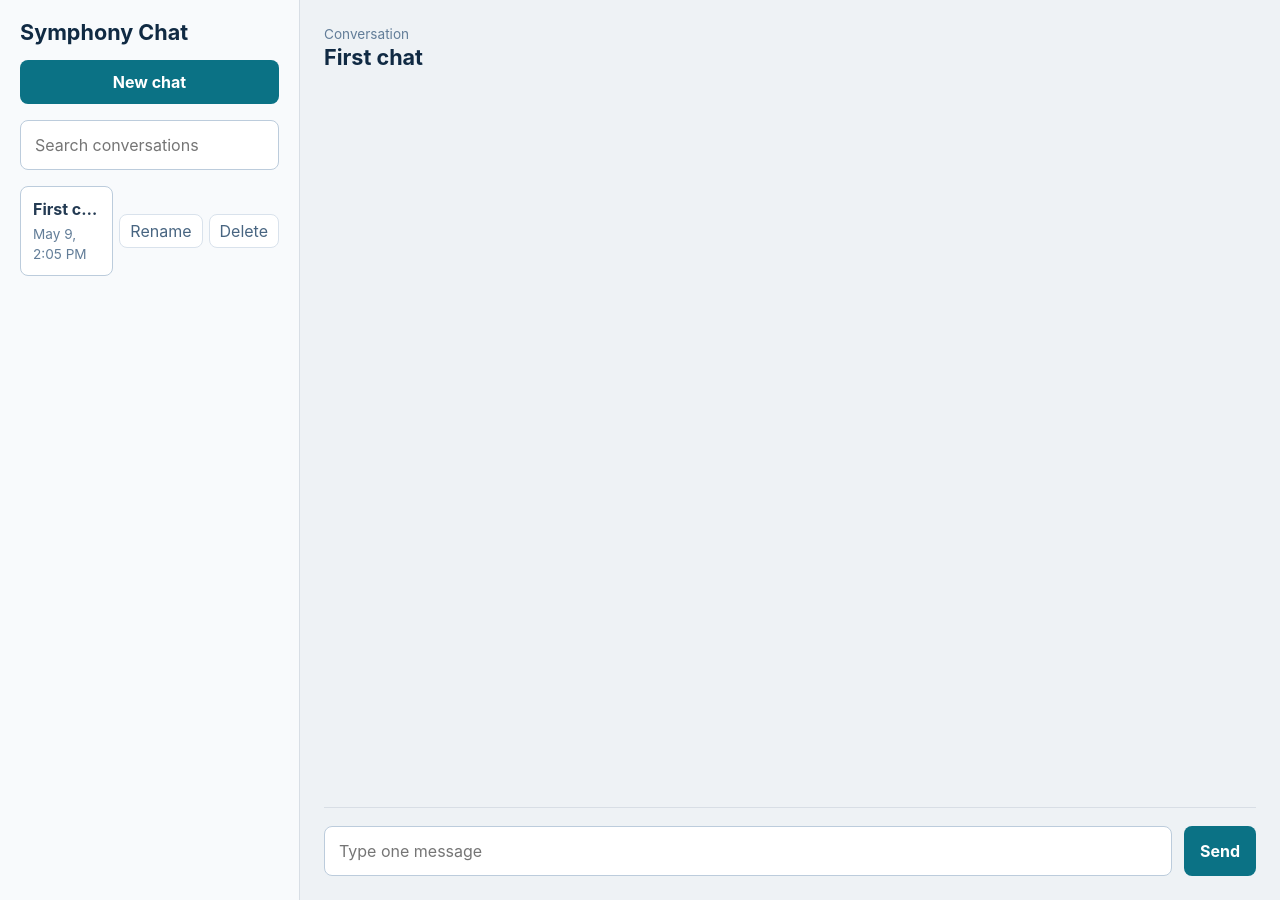
App › keeps the row in edit mode and surfaces the server 400 detail
The width and height of the screenshot is (1280, 900).
Expected: the button with aria-label "Open First chat" is shown, [20,186,113,276]
Step 1. Click the button with aria-label "Rename First chat" → (161, 231), box [119,214,202,248]
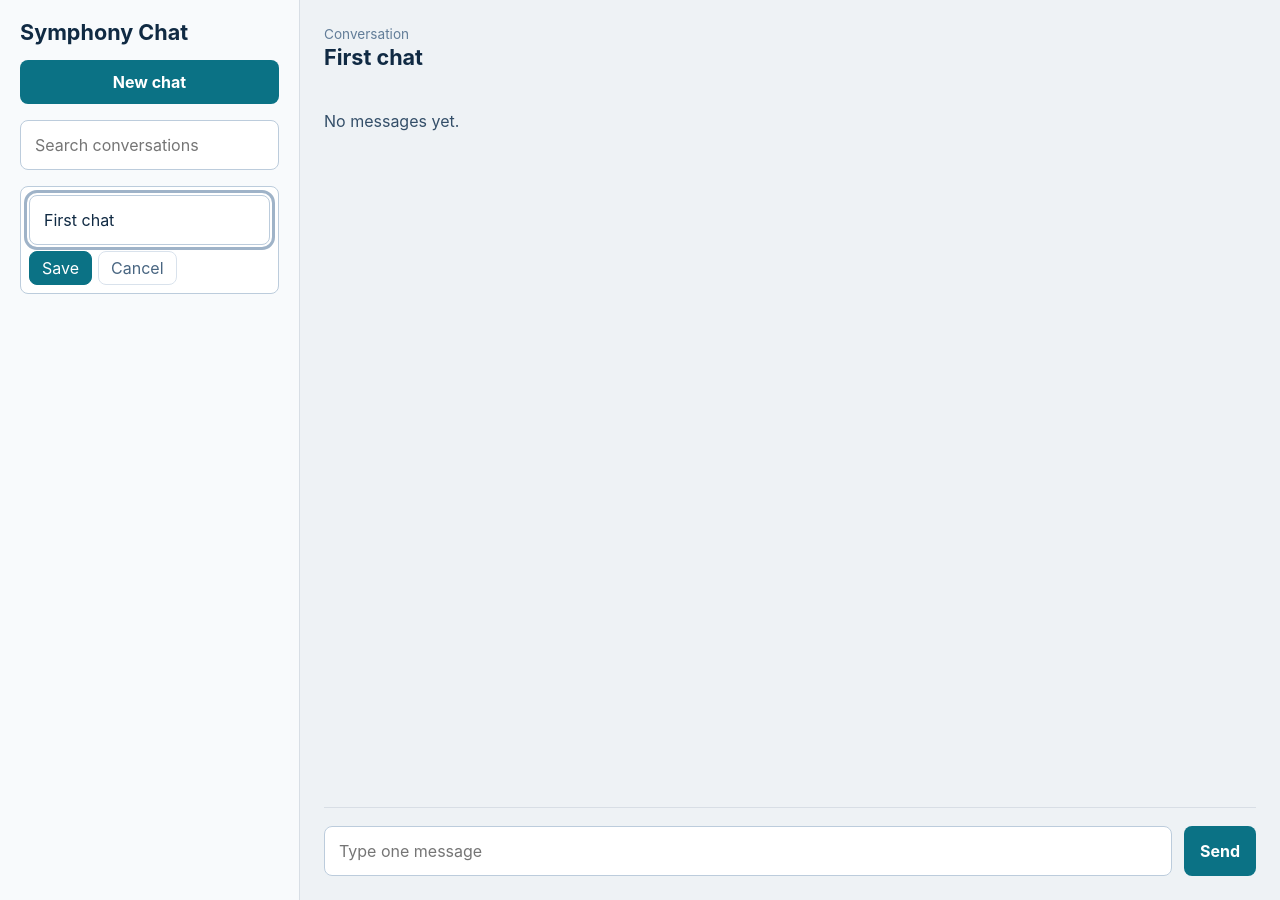
Step 2. Replace the text in the field named "New title for First chat" with "still fine" → (150, 220), box [29,195,270,245]
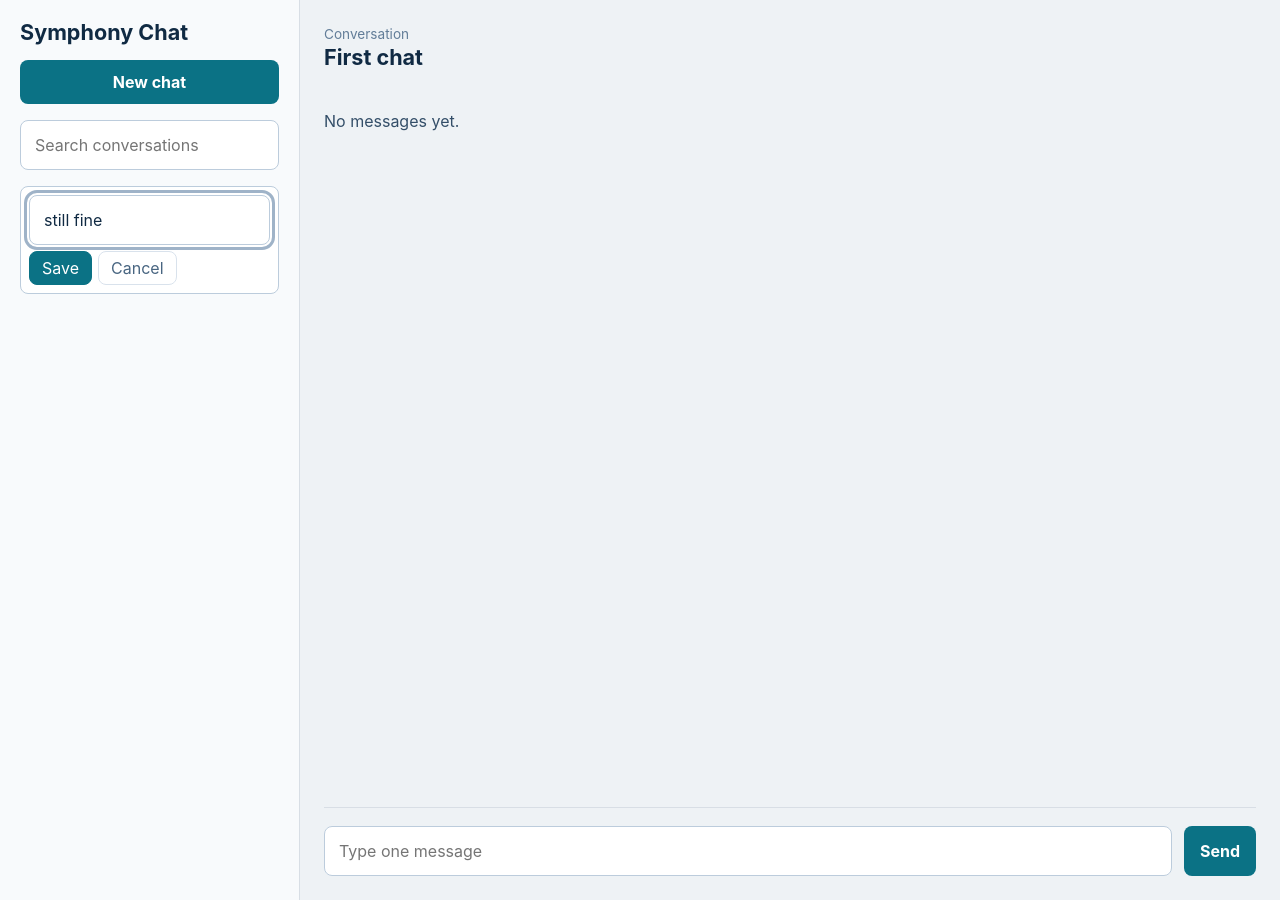
Step 3. Click the button "Save" → (60, 268), box [29,251,92,285]
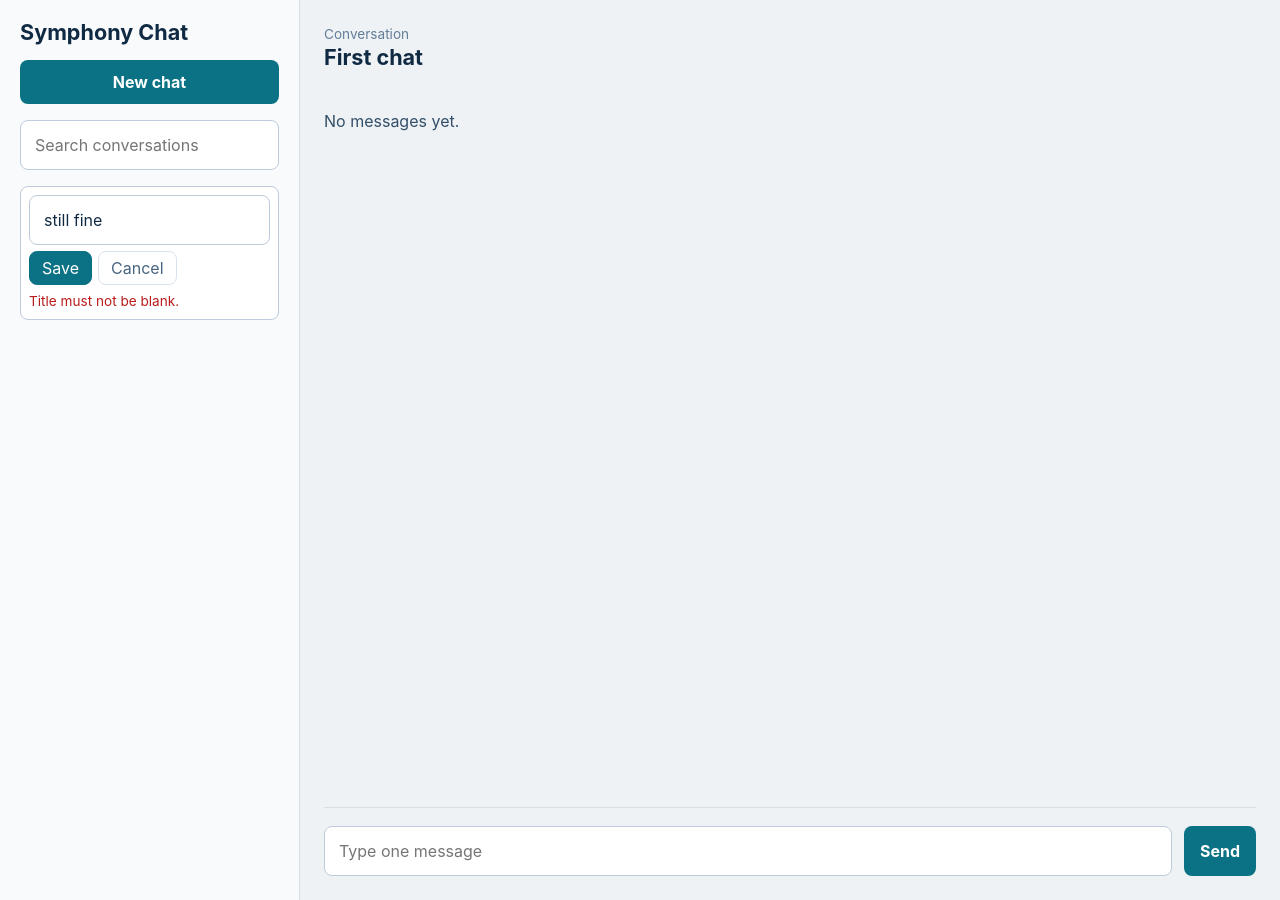
Expected: the heading "First chat" is shown, [324,44,423,71]
Expected: the text "Title must not be blank." is shown, [29,293,179,309]
